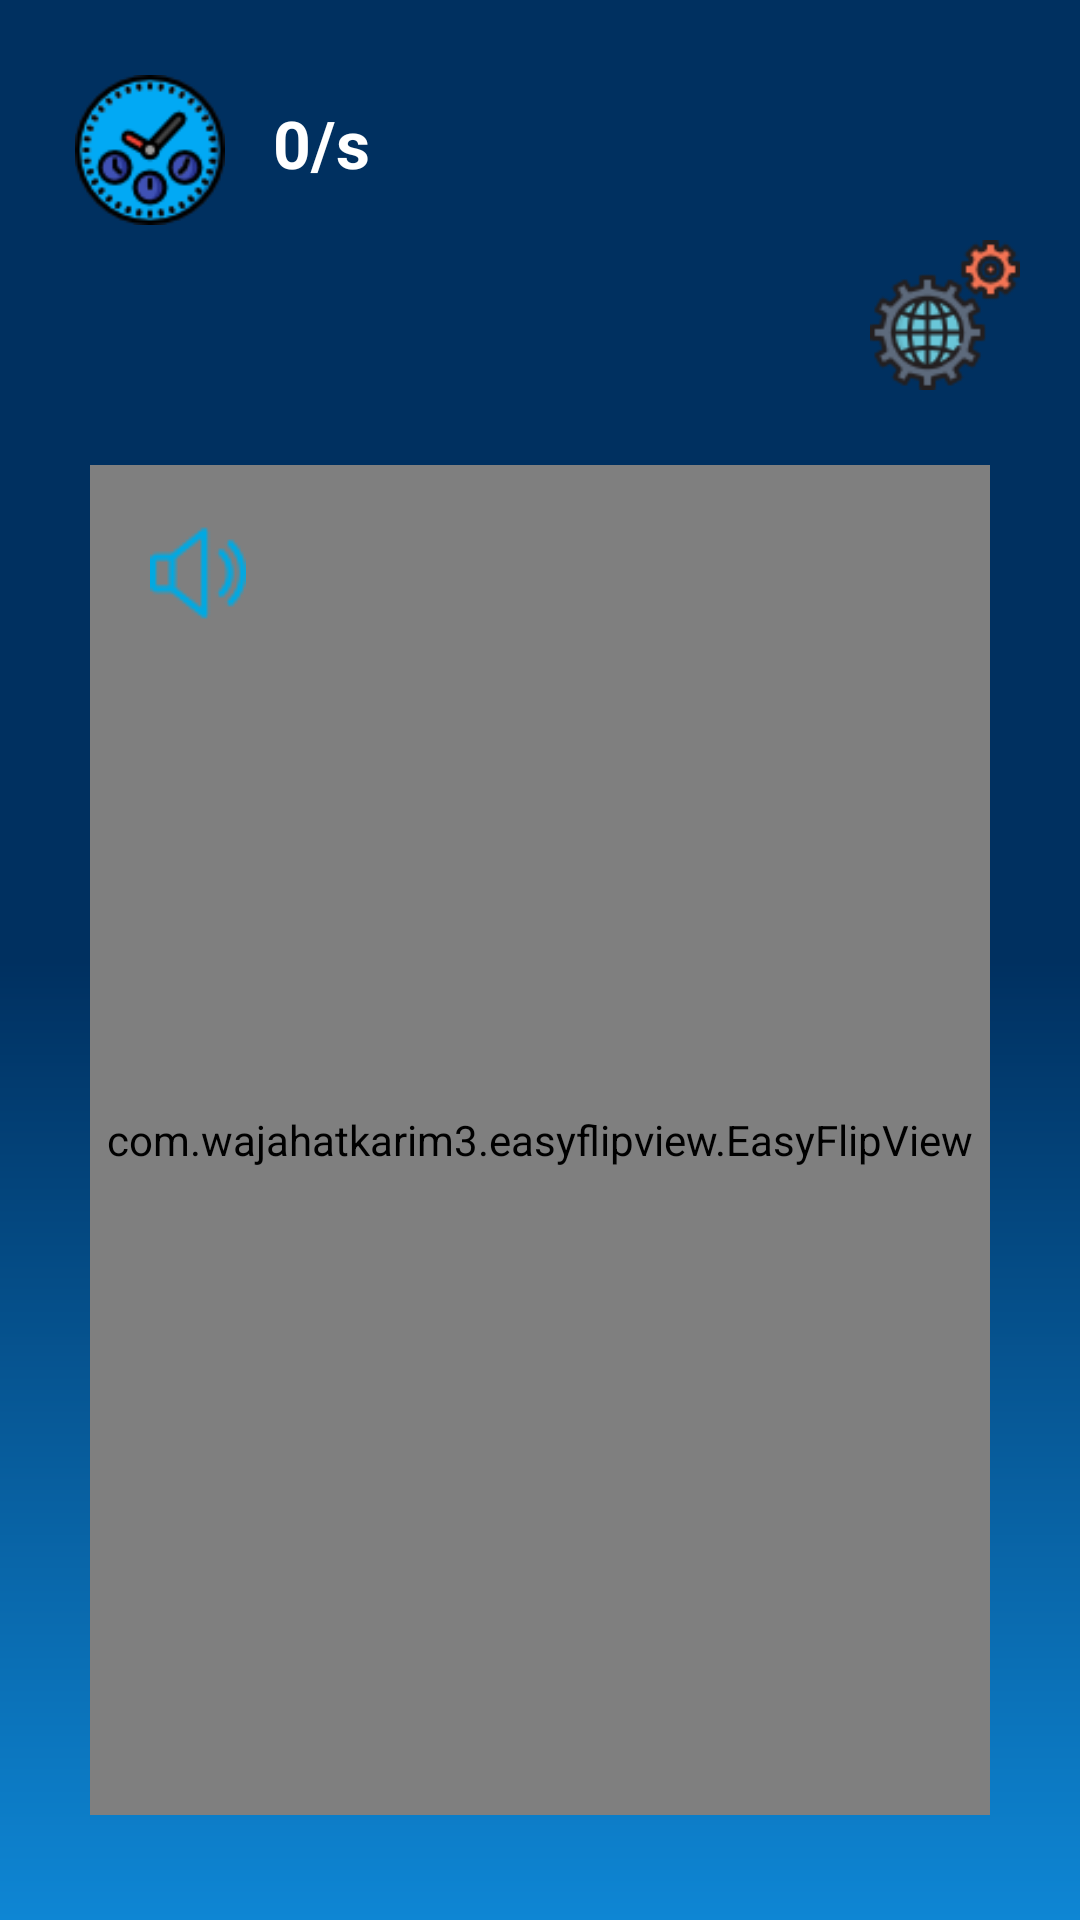

Icon click points for this 1080×1920 phone screenshot, format [x,y]:
clock: [150,150]
development: [945,315]
volume: [198,573]
